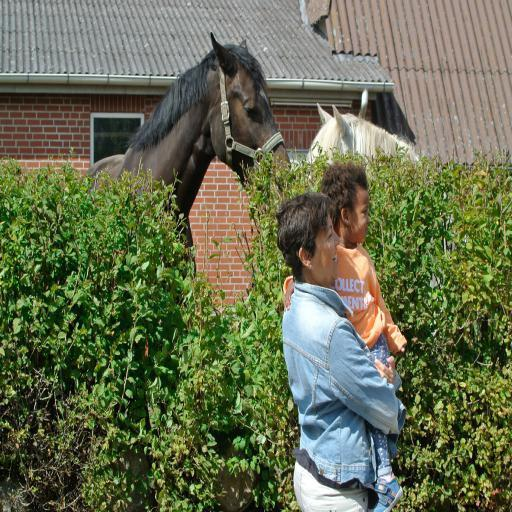horse: (79, 30, 294, 324), (302, 100, 464, 334)
